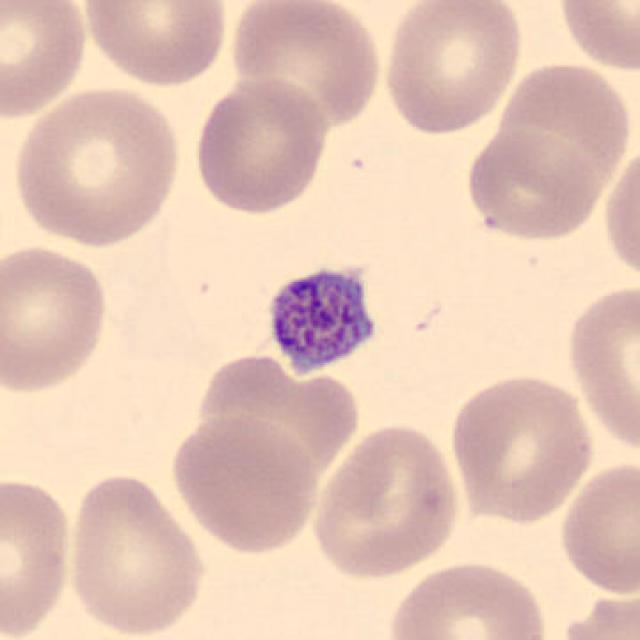Platelets: (254, 254, 391, 388)
RBC: (9, 83, 187, 248), (308, 419, 464, 582), (182, 354, 372, 486), (62, 469, 210, 638), (447, 368, 598, 526), (165, 411, 324, 557), (489, 58, 633, 208), (225, 0, 387, 130), (188, 72, 332, 217), (379, 0, 526, 138), (0, 240, 114, 398), (460, 125, 604, 243), (382, 557, 555, 640), (76, 0, 233, 90), (562, 279, 638, 460), (0, 470, 76, 640), (554, 456, 640, 597), (0, 0, 92, 125), (553, 0, 640, 76), (599, 137, 640, 291), (554, 583, 638, 640)
